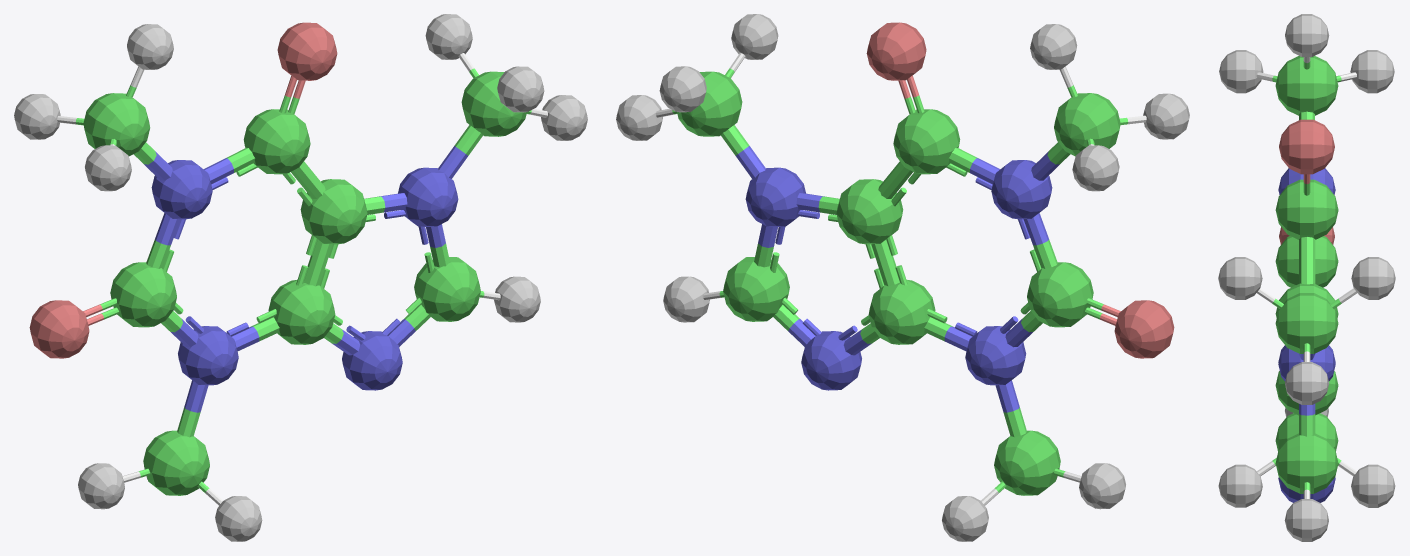
The model's file is caffeine__ball_and_stick__default.glb.
3 renders of one model, left to right at view 1: azimuth 30°, elevation 25°; view 2: azimuth 150°, elevation 25°; view 3: azimuth 270°, elevation 25°, orthographic. The views are drawn at different scales.
Visible parts, largest first — view 1: Renderer Node; view 2: Renderer Node; view 3: Renderer Node.
Part boxes in pixels (x1=…): Renderer Node: x1=14, y1=14, x2=587, y2=541; Renderer Node: x1=616, y1=14, x2=1189, y2=541; Renderer Node: x1=1218, y1=14, x2=1395, y2=541.
Size of the model in its own units: 7.99 by 6.95 by 2.4.
